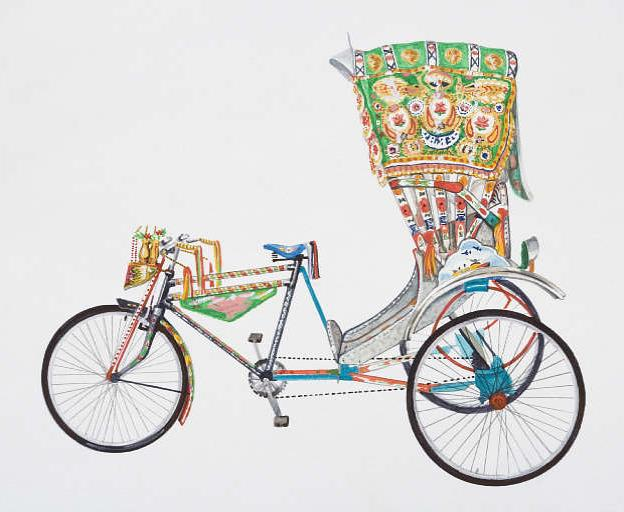Rickshaw: (36, 29, 595, 501)
